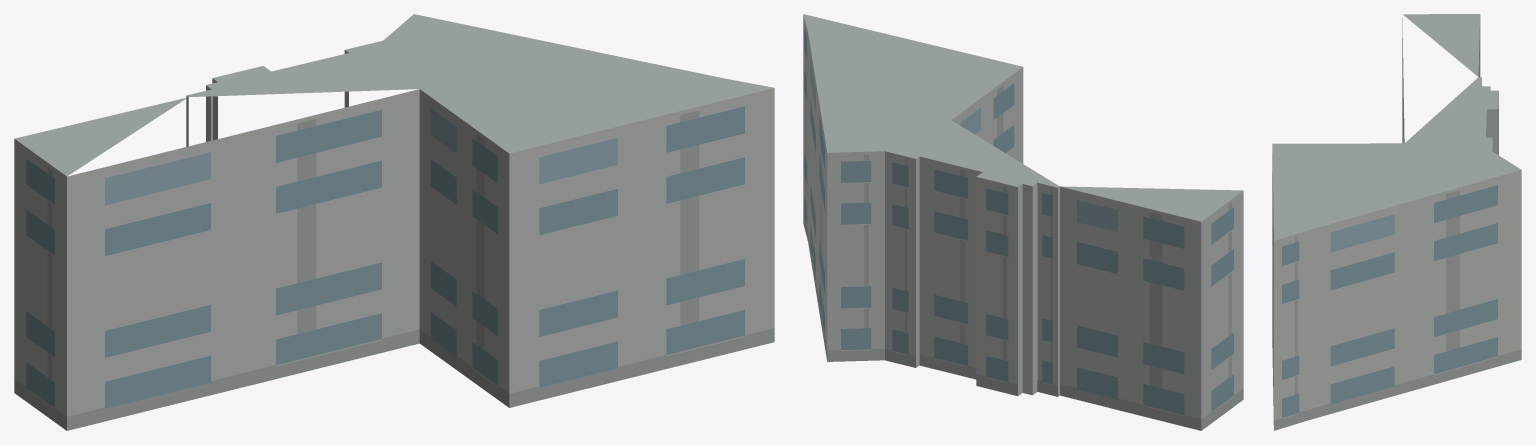
The model's file is residential-4da9b218-b6a0-461c-9d46-9e89e3ce0298.glb.
3 renders of one model, left to right at view 1: azimuth 30°, elevation 25°; view 2: azimuth 150°, elevation 25°; view 3: azimuth 270°, elevation 25°, orthographic. The views are drawn at different scales.
Parts seen in each view (by area): view 1: residential-4da9b218-b6a0-461c-9d46-9e89e3ce0298.tmp; view 2: residential-4da9b218-b6a0-461c-9d46-9e89e3ce0298.tmp; view 3: residential-4da9b218-b6a0-461c-9d46-9e89e3ce0298.tmp.
Boxes of the visible parts, bbox=[...] form: residential-4da9b218-b6a0-461c-9d46-9e89e3ce0298.tmp: bbox=[14, 14, 774, 430]; residential-4da9b218-b6a0-461c-9d46-9e89e3ce0298.tmp: bbox=[803, 14, 1243, 430]; residential-4da9b218-b6a0-461c-9d46-9e89e3ce0298.tmp: bbox=[1272, 14, 1521, 430].
Bounding box in the file's own units: 39.05 × 15.25 × 18.14.
